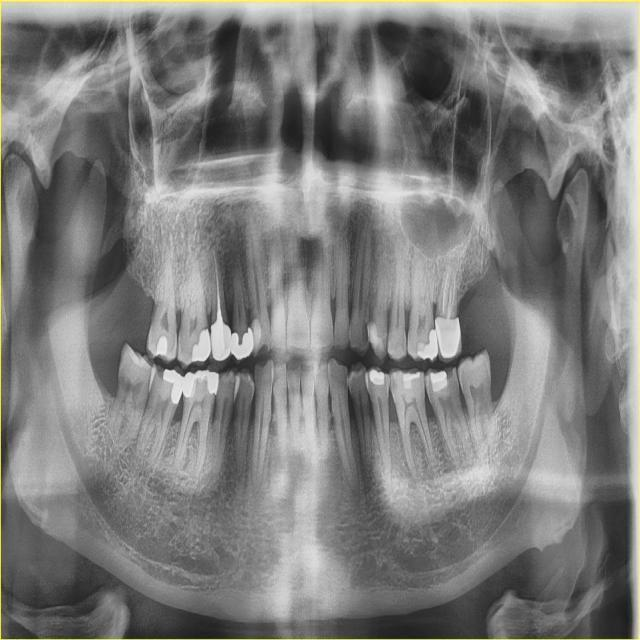Caries: (389, 373, 397, 396), (361, 321, 368, 347), (233, 402, 238, 425), (385, 375, 390, 389)
Crown: (435, 315, 462, 361), (210, 313, 232, 363)
Filling: (183, 371, 219, 397), (231, 326, 254, 360), (163, 369, 184, 404), (367, 321, 386, 358), (417, 327, 438, 360), (192, 328, 211, 361), (250, 318, 261, 354), (430, 370, 447, 392), (156, 336, 167, 356), (370, 370, 384, 385), (403, 372, 420, 381), (217, 309, 223, 324)
Root Canal Treatment: (214, 250, 220, 312), (441, 272, 448, 314), (446, 286, 450, 318), (451, 282, 455, 308)
